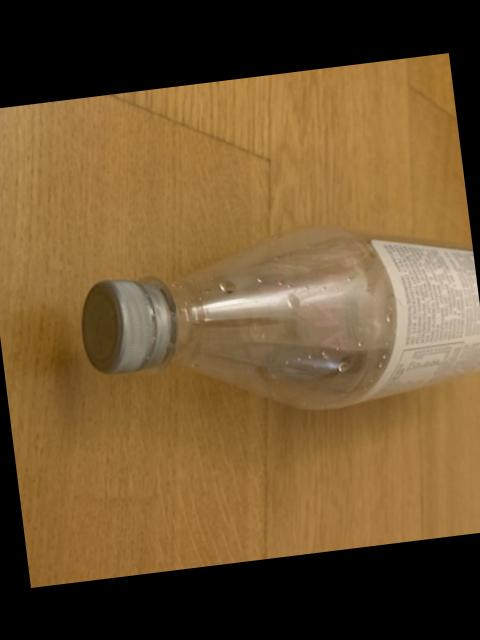plastic: (84, 225, 480, 407)
